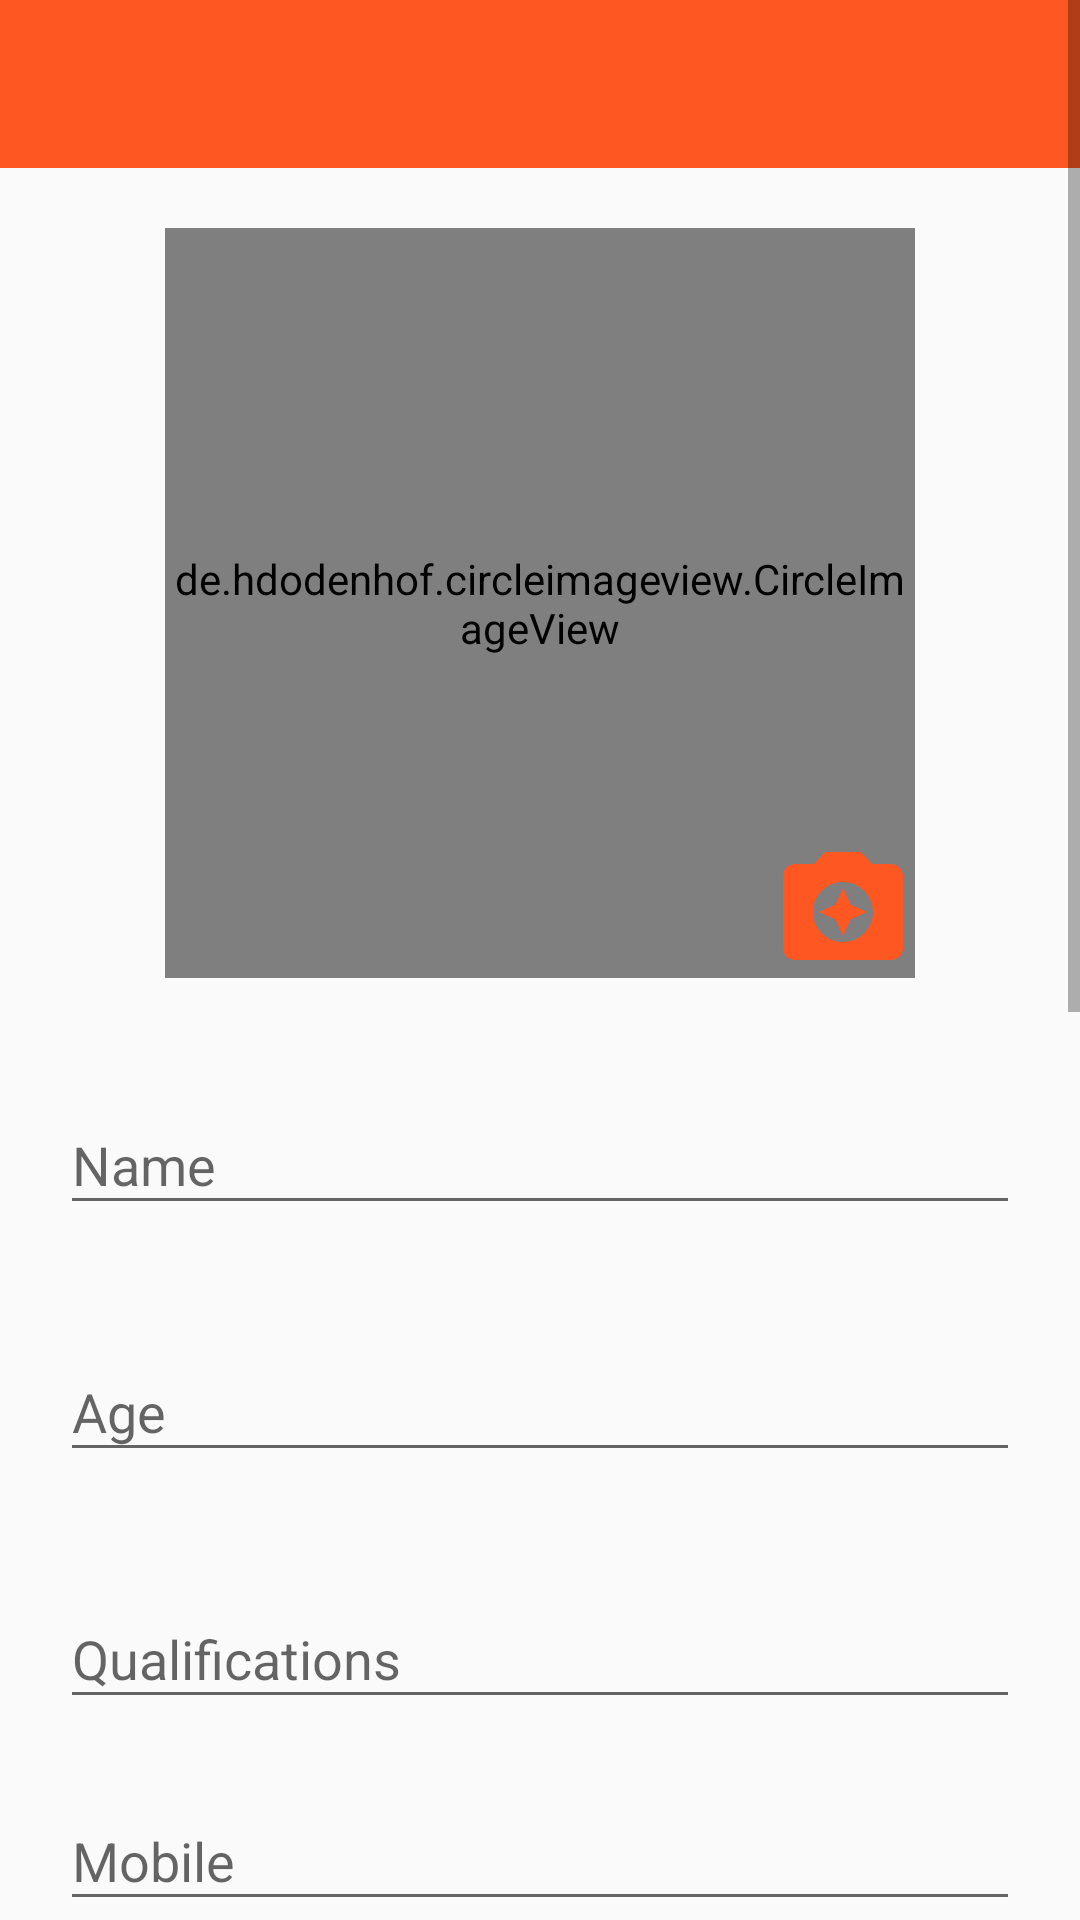

Screen size 1080px x 1920px. Icon name, then its box in pixels as [x1,y1,x2,y2]:
camera: [783,852,903,960]
